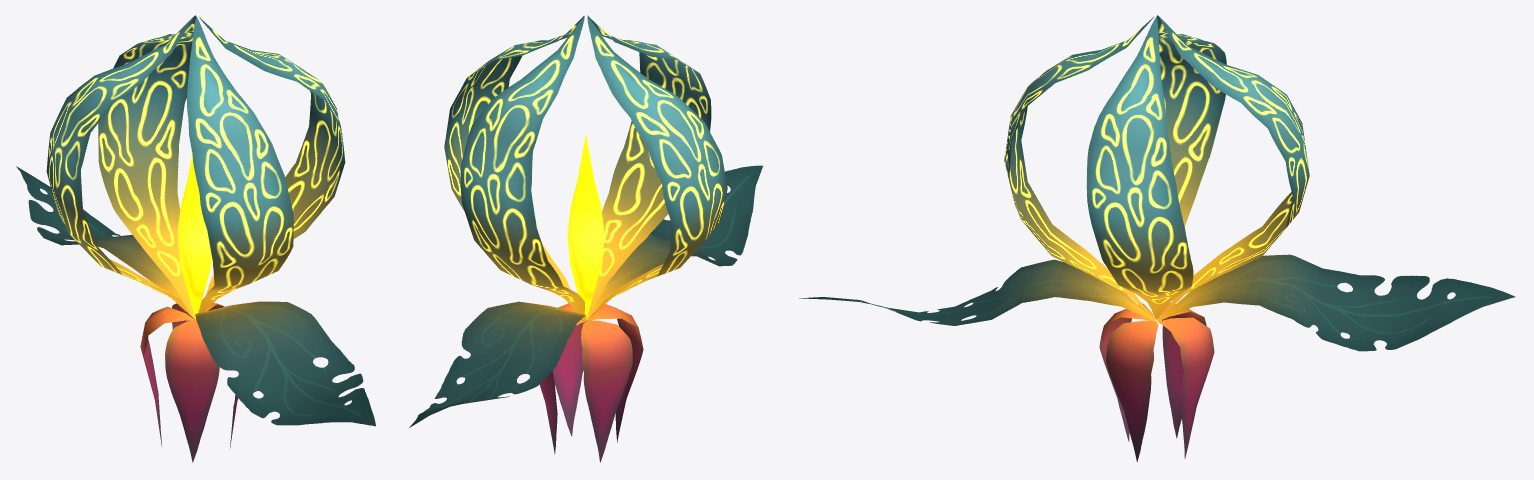
The model's file is EXP_Flower_Levitation.fbx.
3 views of the same model, side by side, from view 1: azimuth 30°, elevation 25°; view 2: azimuth 150°, elevation 25°; view 3: azimuth 270°, elevation 25° (orthographic).
Parts seen in each view (by area): view 1: OBJ_Flower_Levitation; view 2: OBJ_Flower_Levitation; view 3: OBJ_Flower_Levitation.
Part boxes in pixels (box(x1,y1,x2,y2)): OBJ_Flower_Levitation: box(16, 15, 375, 462); OBJ_Flower_Levitation: box(409, 15, 762, 462); OBJ_Flower_Levitation: box(799, 15, 1515, 461).
Bounding box in the file's own units: 56.62 × 90 × 134.
Materials: 1 (1 with a texture image).
